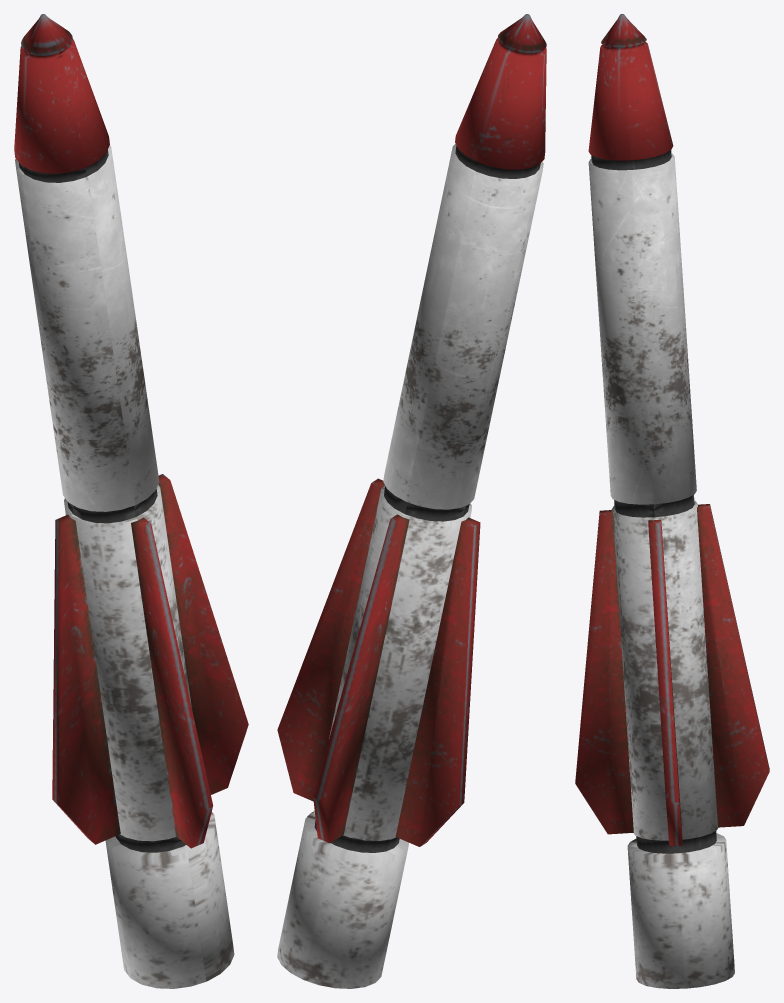
Rendered from SM_Missile_01b.fbx.
3 renders of one model, left to right at view 1: azimuth 30°, elevation 25°; view 2: azimuth 150°, elevation 25°; view 3: azimuth 270°, elevation 25°, orthographic. The views are drawn at different scales.
Parts seen in each view (by area): view 1: Cube; view 2: Cube; view 3: Cube.
Boxes of the visible parts, <box> form: Cube: <box>14,14,248,988</box>; Cube: <box>277,14,546,988</box>; Cube: <box>575,14,769,988</box>.
Bounding box in the file's own units: 23.69 × 93.06 × 18.27.
Materials: 1 (1 with a texture image).
